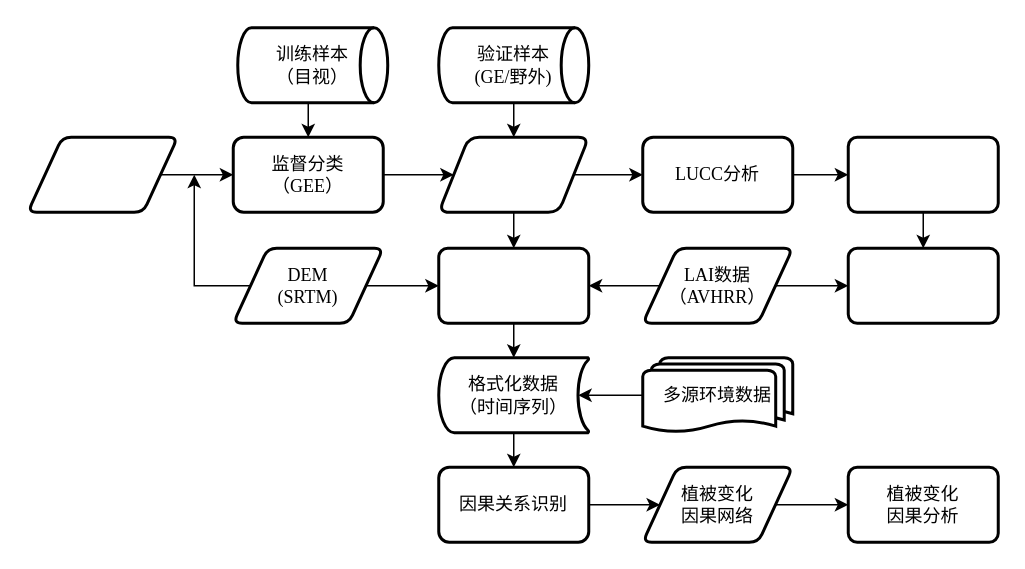
Some shapes in this 1025 by 569 pixel diagram are drawn without their labels. Here are the shapes that lost their labels. From the top down, the centre of each, then its label:
At (102,174): "遥感影像 （Landsat）".
At (513,174): "LUC数据 （1986-2018）".
At (922,174): "LUC转移 网络分析".
At (513,285): "演化单元 划分".
At (922,285): "叶面积 变化分析".
